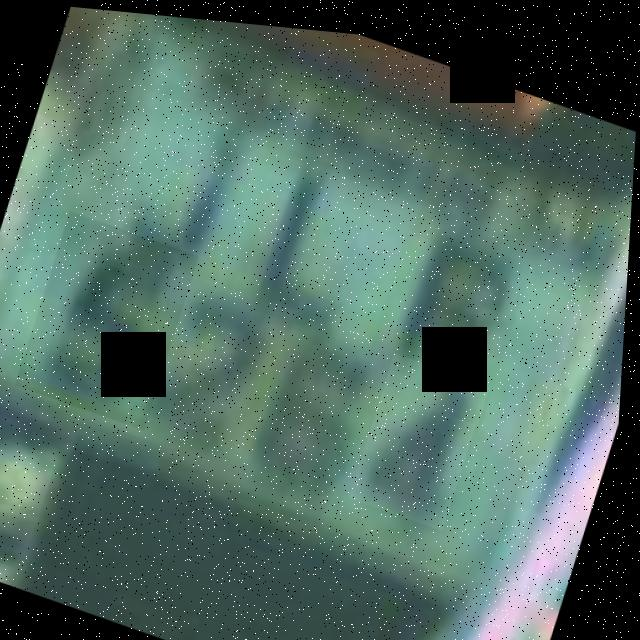2: (126, 261, 298, 470)
4: (352, 341, 494, 525)
5: (17, 206, 203, 430)
6: (229, 303, 399, 508)
J: (115, 74, 271, 289), (234, 137, 379, 331)
R: (361, 197, 539, 419)
